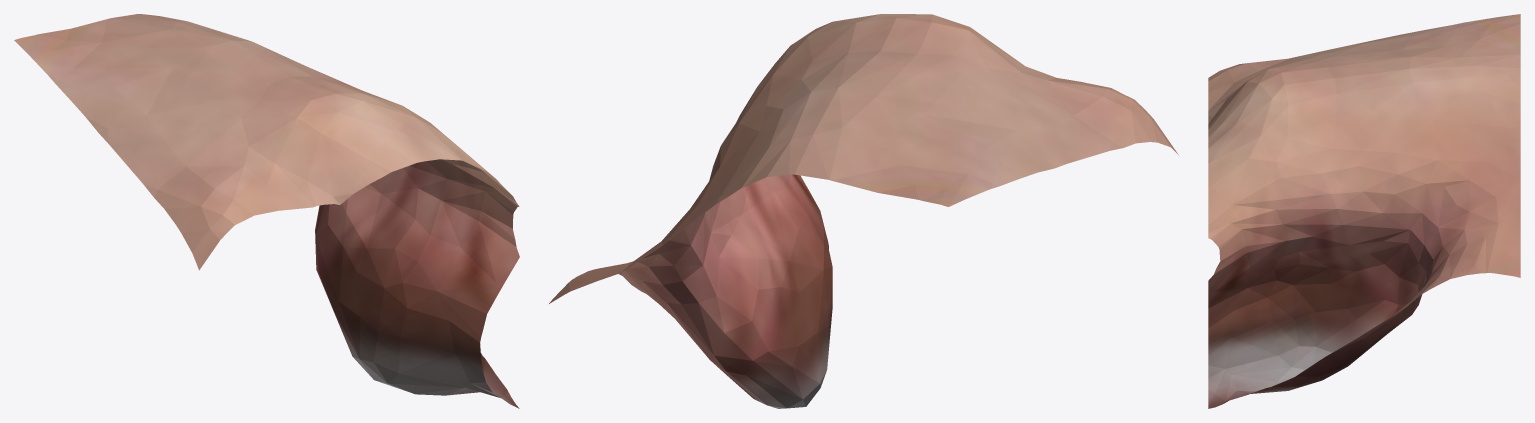
The picture shows the model from 3 angles, left to right: view 1: azimuth 30°, elevation 25°; view 2: azimuth 150°, elevation 25°; view 3: azimuth 270°, elevation 25°; orthographic projection. The views are drawn at different scales.
Parts seen in each view (by area): view 1: 091_W_Aya_100K_01; view 2: 091_W_Aya_100K_01; view 3: 091_W_Aya_100K_01.
Boxes of the visible parts, <box> form: 091_W_Aya_100K_01: <box>14,14,519,408</box>; 091_W_Aya_100K_01: <box>549,14,1178,408</box>; 091_W_Aya_100K_01: <box>1208,14,1520,408</box>.
Bounding box in the file's own units: 42.87 × 41.4 × 42.87.
1 material, 1 textured.
